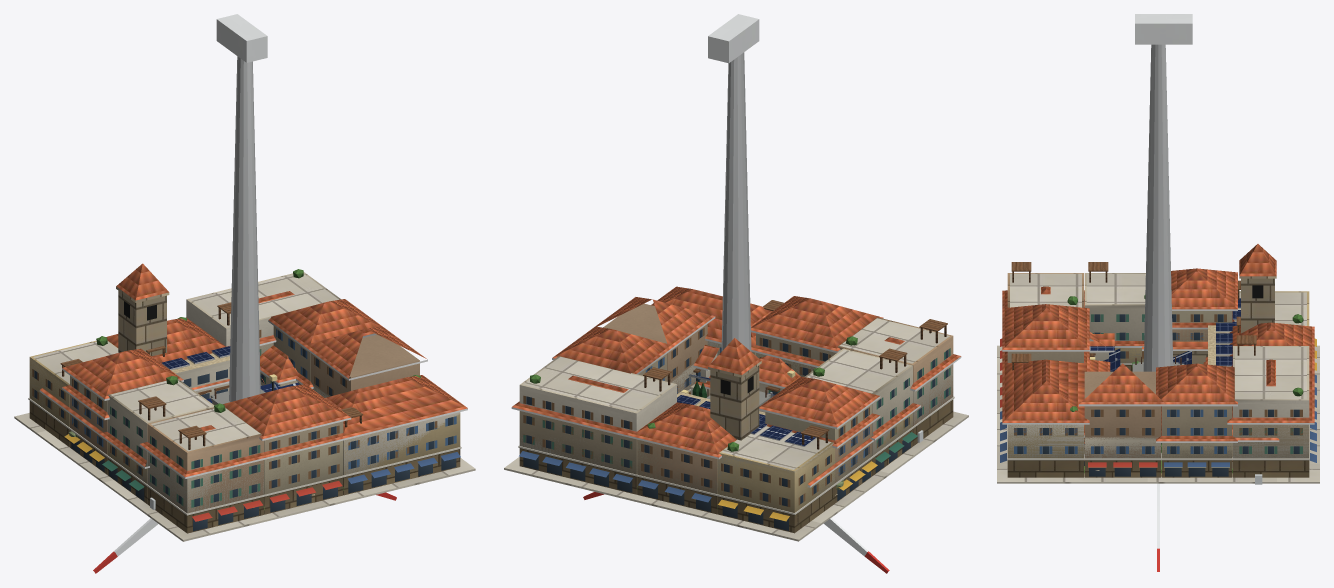
Rendered from city-kit.glb.
3 renders of one model, left to right at view 1: azimuth 30°, elevation 25°; view 2: azimuth 150°, elevation 25°; view 3: azimuth 270°, elevation 25°, orthographic. The views are drawn at different scales.
Parts seen in each view (by area): view 1: town-block-4, town-block-3, wind-base, town-plaza, town-civic, wind-rotor; view 2: town-block-4, town-block-3, wind-base, town-plaza, town-civic, district-L2-era-0, wind-rotor; view 3: town-block-4, town-block-3, wind-base, town-plaza, town-civic, solar-panels, district-L0-era-2.
Part boxes in pixels (x1=…): town-block-4: x1=14, y1=269, x2=475, y2=541; town-block-3: x1=14, y1=291, x2=475, y2=541; wind-base: x1=216, y1=14, x2=267, y2=401; town-plaza: x1=16, y1=263, x2=474, y2=540; town-civic: x1=162, y1=345, x2=297, y2=399; wind-rotor: x1=93, y1=492, x2=396, y2=573; town-block-4: x1=504, y1=286, x2=968, y2=540; town-block-3: x1=504, y1=300, x2=968, y2=541; wind-base: x1=708, y1=14, x2=759, y2=351; town-plaza: x1=629, y1=338, x2=956, y2=540; town-civic: x1=504, y1=392, x2=837, y2=539; district-L2-era-0: x1=759, y1=355, x2=800, y2=394; wind-rotor: x1=583, y1=492, x2=889, y2=573; town-block-4: x1=997, y1=262, x2=1319, y2=483; town-block-3: x1=997, y1=286, x2=1319, y2=483; wind-base: x1=1135, y1=14, x2=1192, y2=371; town-plaza: x1=997, y1=244, x2=1276, y2=483; town-civic: x1=998, y1=298, x2=1318, y2=483; solar-panels: x1=1103, y1=348, x2=1191, y2=443; district-L0-era-2: x1=1084, y1=346, x2=1262, y2=484.
Size of the model in its own units: 0.0613 by 0.0975 by 0.0588.
Materials: 1 (1 with a texture image).
